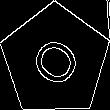O_SE: (23, 28, 87, 93)
